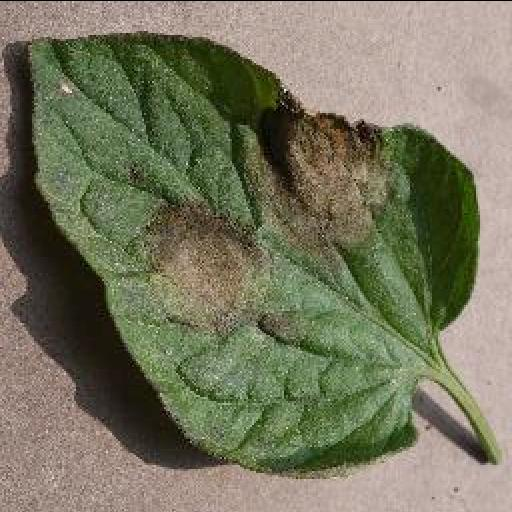disease_tomato: (22, 28, 476, 494)
